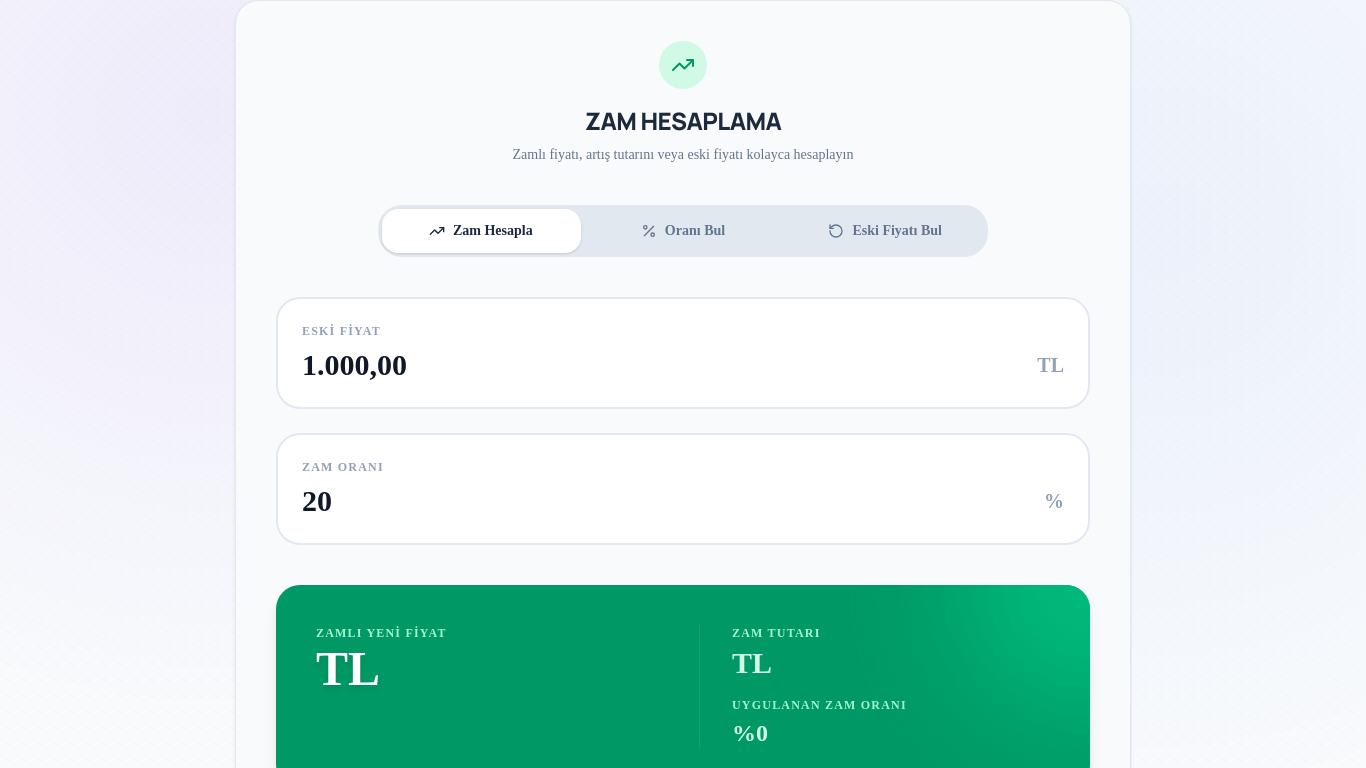
Test: ZamHesaplamaForm Integration Test › should have proper inputMode and format numbers
Replace the text in the 1st field with "2500" at point(683, 365), box top-left (302, 347), bottom-right (1064, 383)
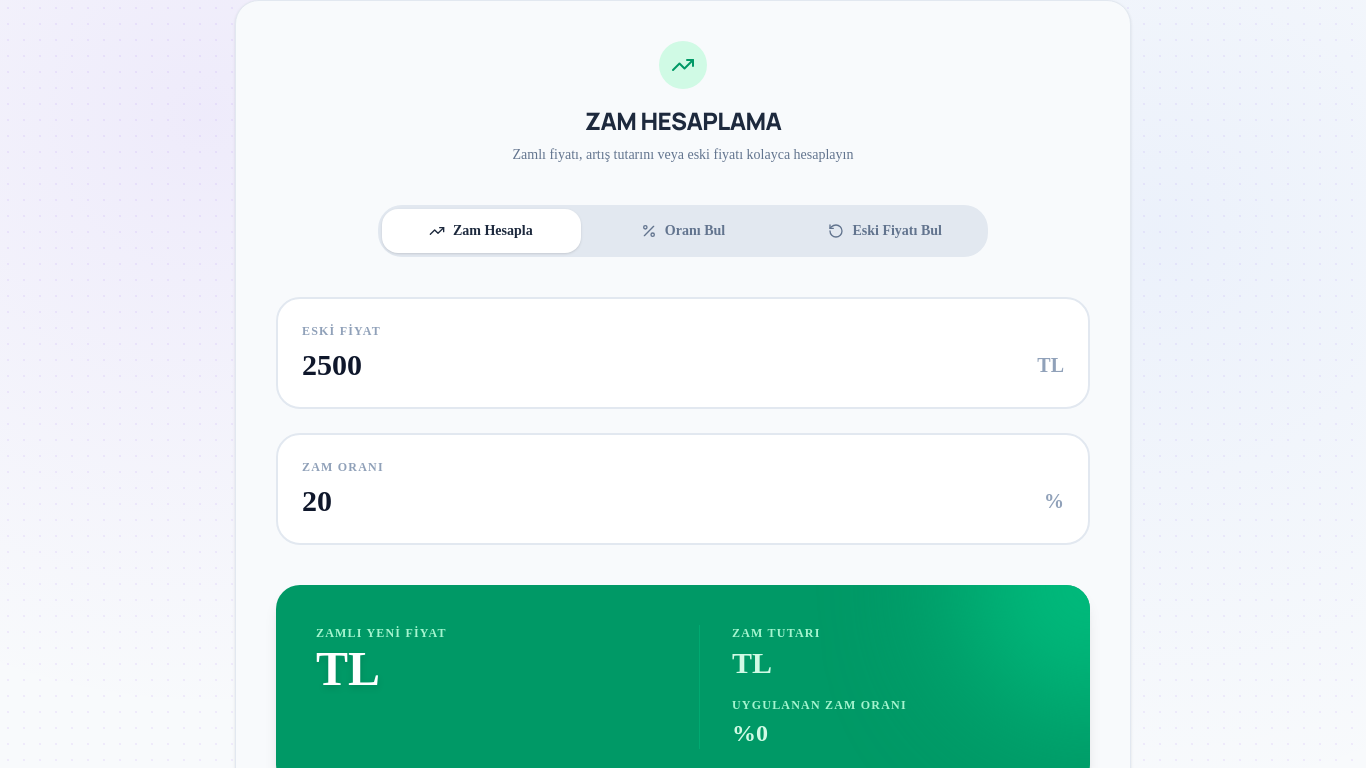
Leave the 1st field, box top-left (302, 347), bottom-right (1064, 383)
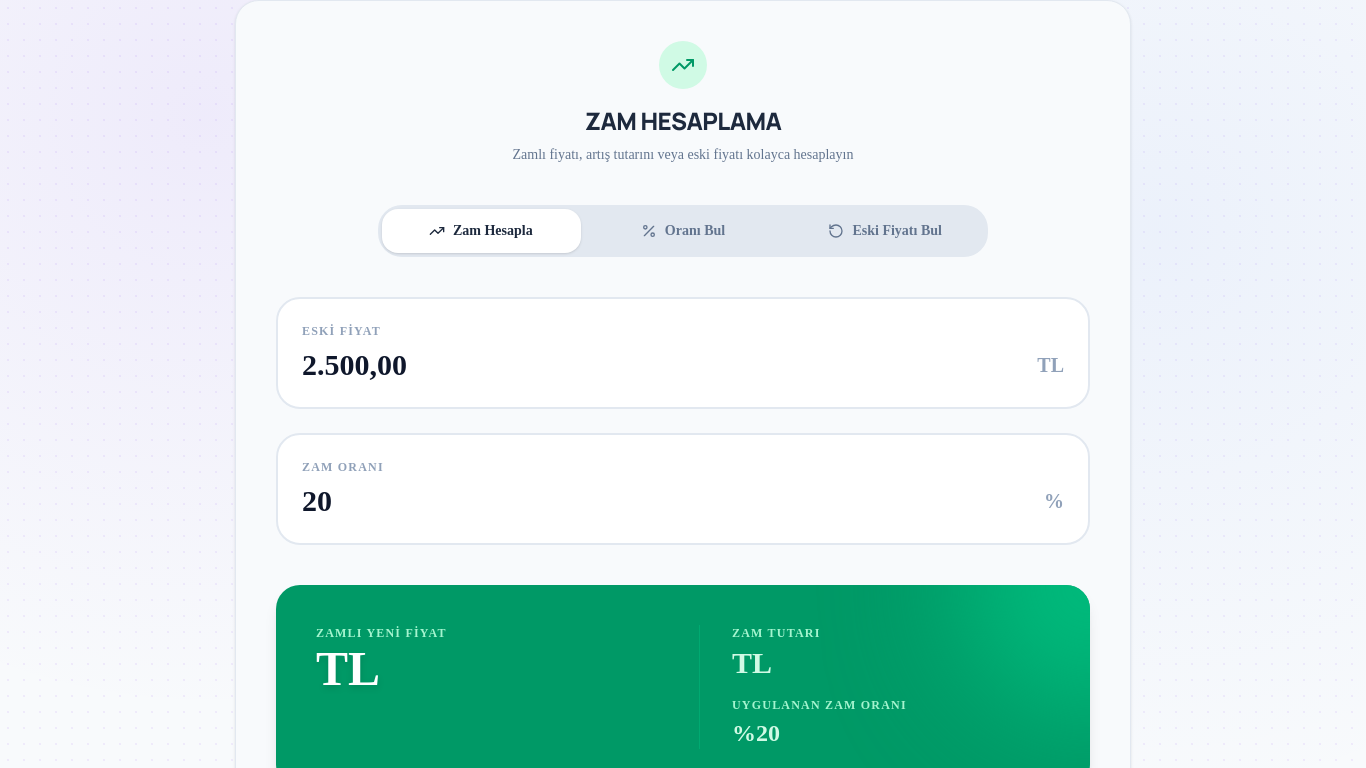
Expected: the 1st field holds "2.500,00", top-left (302, 347), bottom-right (1064, 383)
